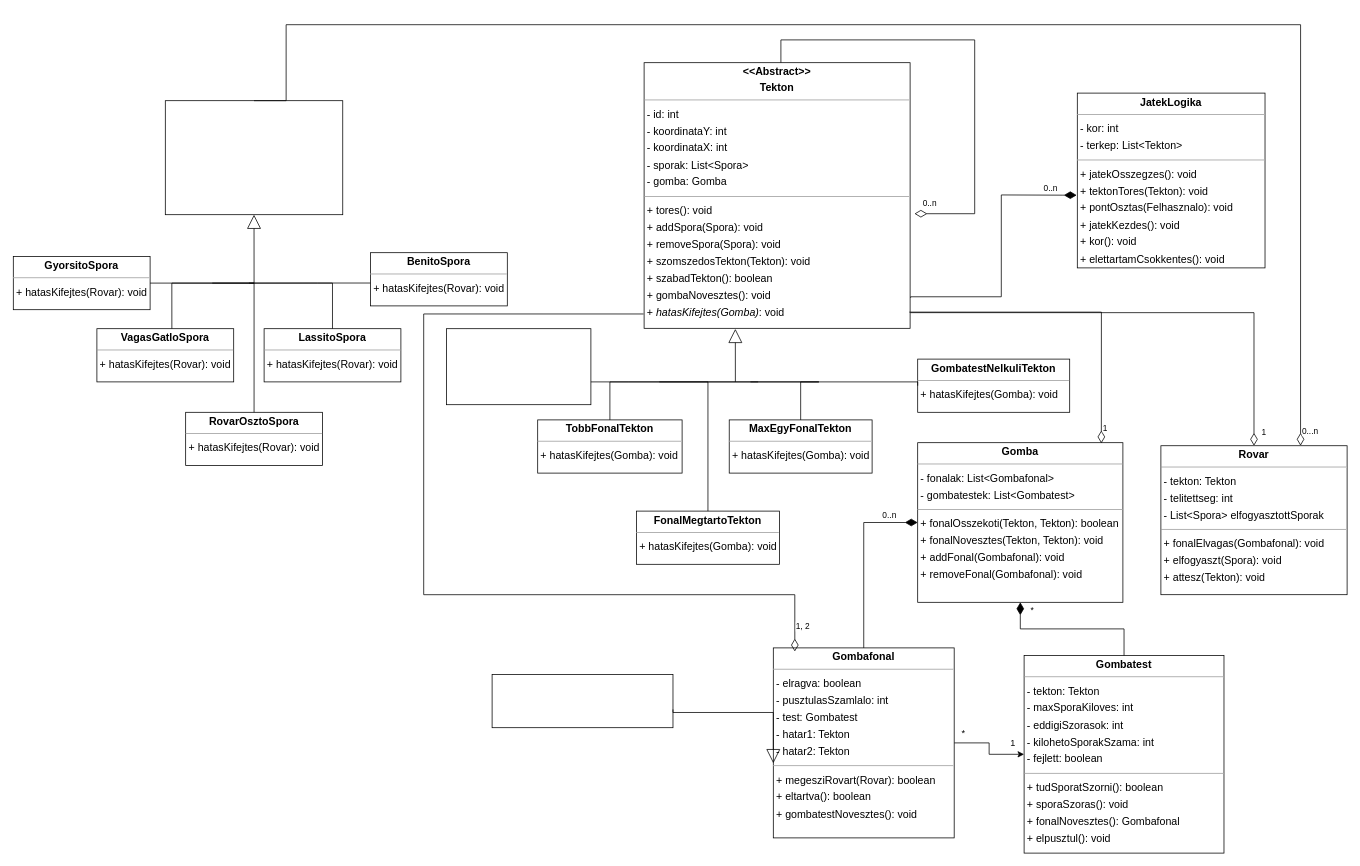
Some shapes in this 1360 by 866 pixel diagram are drawn without their labels. The centre of each missing label's shape, as x and y in pixels:
<<Abstract>> Spora - szamlalo: int + torles(): void + hatasKifejtes(): void: [254,157]
FelszivodosTekton - szamlalo: int + hatasKifejtes(Gomba): void: [518,366]
HusevoGombafonal + hatasKifejtes(Rovar): GombaTest: [582,701]
